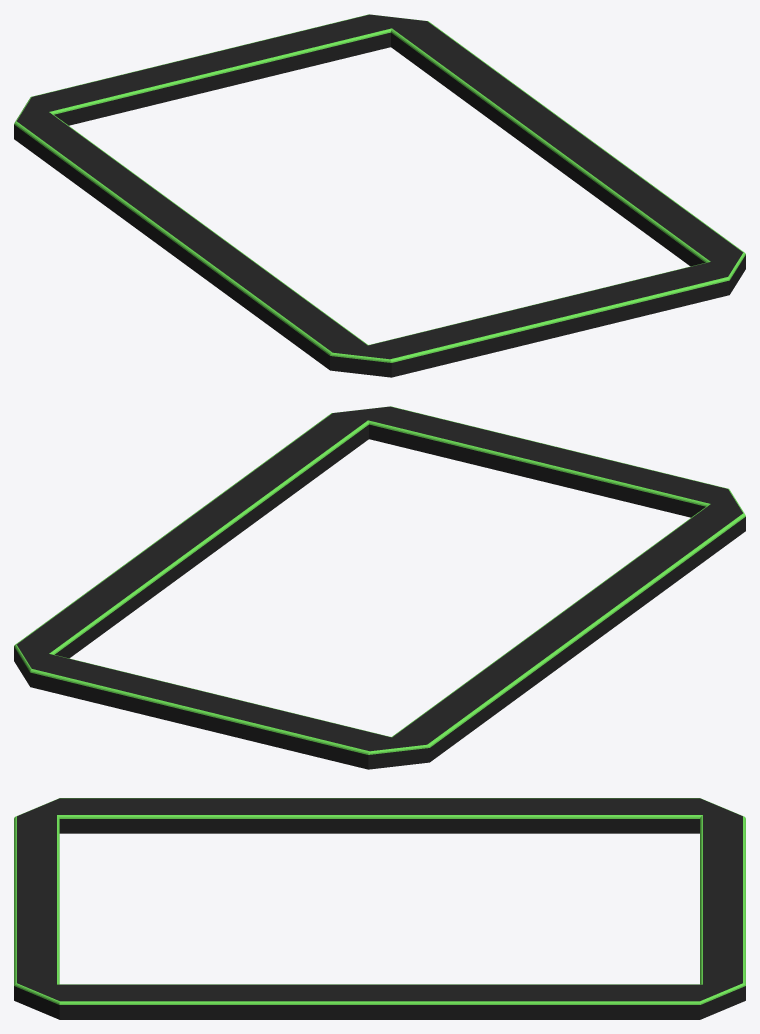
The model's file is wall.fbx.
3 renders of one model, top to bottom at view 1: azimuth 30°, elevation 25°; view 2: azimuth 150°, elevation 25°; view 3: azimuth 270°, elevation 25°, orthographic.
Visible parts, largest first — view 1: Plane.002, Plane.004, Plane.003, Plane.001; view 2: Plane.001, Plane.004, Plane.003, Plane.002; view 3: Plane.003, Plane.004, Plane.001, Plane.002.
Boxes of the visible parts, x1=… form: Plane.002: x1=317, y1=243, x2=745, y2=377; Plane.004: x1=26, y1=122, x2=354, y2=360; Plane.003: x1=403, y1=30, x2=731, y2=266; Plane.001: x1=14, y1=14, x2=440, y2=147; Plane.001: x1=14, y1=635, x2=442, y2=769; Plane.004: x1=405, y1=514, x2=733, y2=752; Plane.003: x1=28, y1=422, x2=356, y2=658; Plane.002: x1=319, y1=406, x2=745, y2=539; Plane.003: x1=85, y1=984, x2=674, y2=1019; Plane.004: x1=85, y1=798, x2=674, y2=833; Plane.001: x1=675, y1=798, x2=745, y2=1019; Plane.002: x1=14, y1=798, x2=84, y2=1019.
Bounding box in the file's own units: 19.79 × 0.7823 × 29.79.
